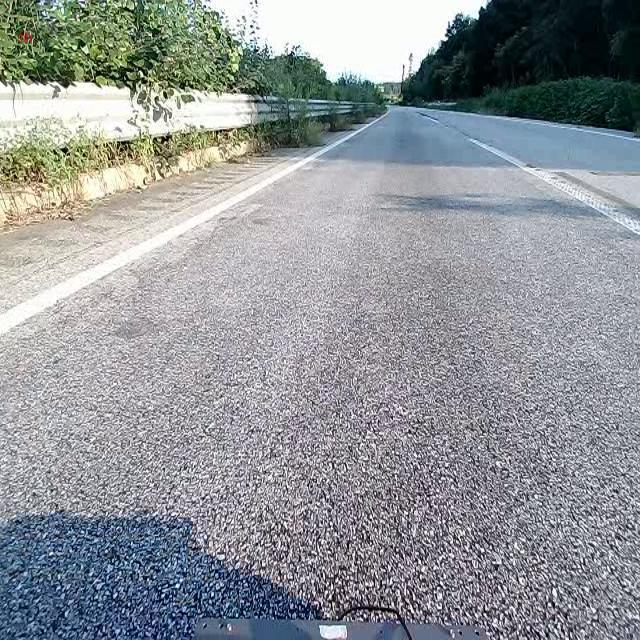Lane: (0, 108, 378, 332), (0, 120, 378, 337), (466, 128, 640, 244), (467, 137, 639, 235)
